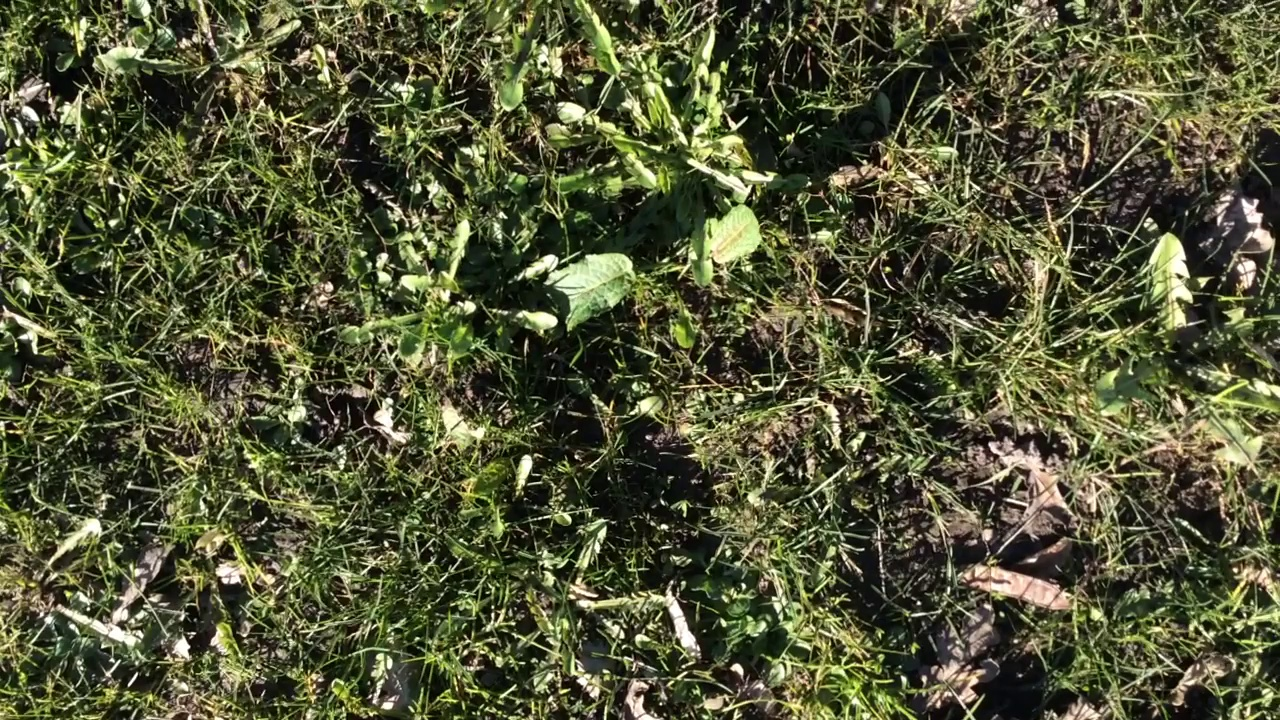rumex: (532, 253, 634, 328), (692, 205, 761, 263)
